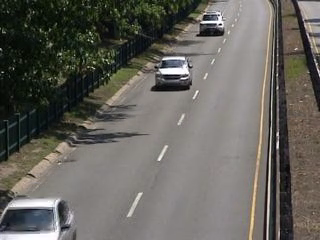car: (1, 194, 83, 239), (153, 51, 196, 92), (196, 8, 227, 40)
